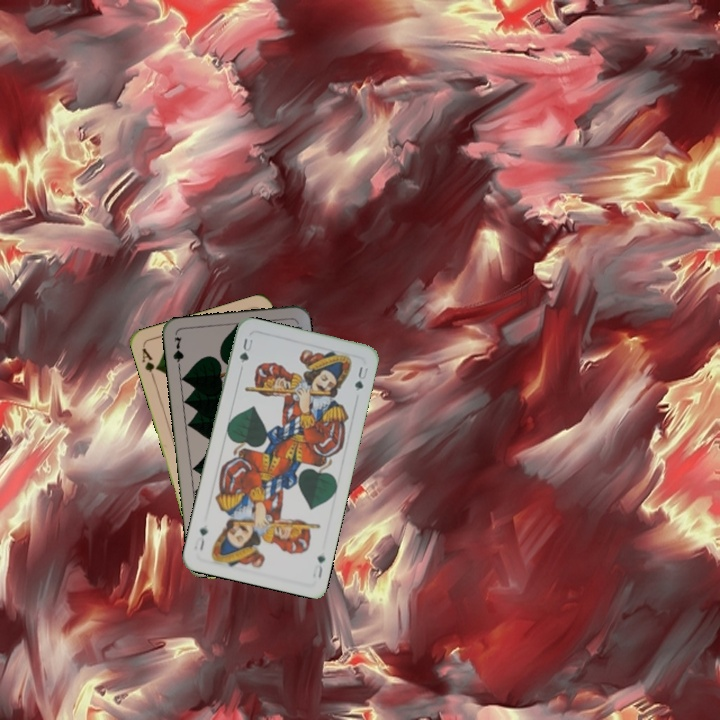G7: (169, 333, 186, 373)
GA: (138, 344, 161, 383)
GU: (235, 334, 255, 366), (309, 551, 328, 581)
